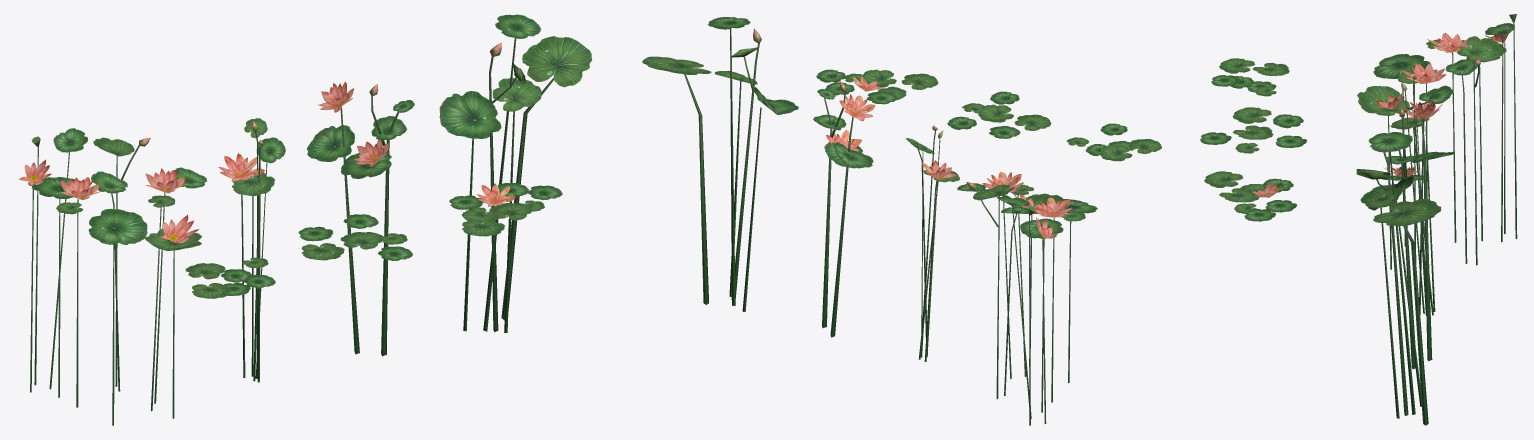
File: Ma1_P_hehua.FBX
The picture shows the model from 3 angles, left to right: view 1: azimuth 30°, elevation 25°; view 2: azimuth 150°, elevation 25°; view 3: azimuth 270°, elevation 25°; orthographic projection. The views are drawn at different scales.
Visible parts, largest first — view 1: Ma1_P_hehua01, Ma1_P_hehua04, Ma1_P_hehua03, Ma1_P_hehua02, Ma1_P_hehua07, Ma1_P_hehua06, Ma1_P_hehua05; view 2: Ma1_P_hehua01, Ma1_P_hehua04, Ma1_P_hehua03, Ma1_P_hehua02, Ma1_P_hehua07, Ma1_P_hehua06, Ma1_P_hehua05; view 3: Ma1_P_hehua01, Ma1_P_hehua04, Ma1_P_hehua03, Ma1_P_hehua07, Ma1_P_hehua02, Ma1_P_hehua06, Ma1_P_hehua05.
Boxes of the visible parts, <box> form: Ma1_P_hehua01: <box>19,128,207,425</box>; Ma1_P_hehua04: <box>439,14,592,332</box>; Ma1_P_hehua03: <box>307,81,414,356</box>; Ma1_P_hehua02: <box>218,118,285,382</box>; Ma1_P_hehua07: <box>449,183,562,236</box>; Ma1_P_hehua06: <box>298,214,412,260</box>; Ma1_P_hehua05: <box>185,257,275,298</box>; Ma1_P_hehua01: <box>957,172,1097,425</box>; Ma1_P_hehua04: <box>642,17,798,311</box>; Ma1_P_hehua03: <box>813,81,875,337</box>; Ma1_P_hehua02: <box>906,125,959,361</box>; Ma1_P_hehua07: <box>816,69,938,104</box>; Ma1_P_hehua06: <box>947,91,1051,138</box>; Ma1_P_hehua05: <box>1066,123,1161,161</box>; Ma1_P_hehua01: <box>1357,14,1517,269</box>; Ma1_P_hehua04: <box>1356,132,1441,425</box>; Ma1_P_hehua03: <box>1382,102,1454,368</box>; Ma1_P_hehua07: <box>1204,171,1297,221</box>; Ma1_P_hehua02: <box>1390,72,1444,315</box>; Ma1_P_hehua06: <box>1200,107,1306,153</box>; Ma1_P_hehua05: <box>1211,58,1289,96</box>.
Bounding box in the file's own units: 2987 × 1708 × 1773.
